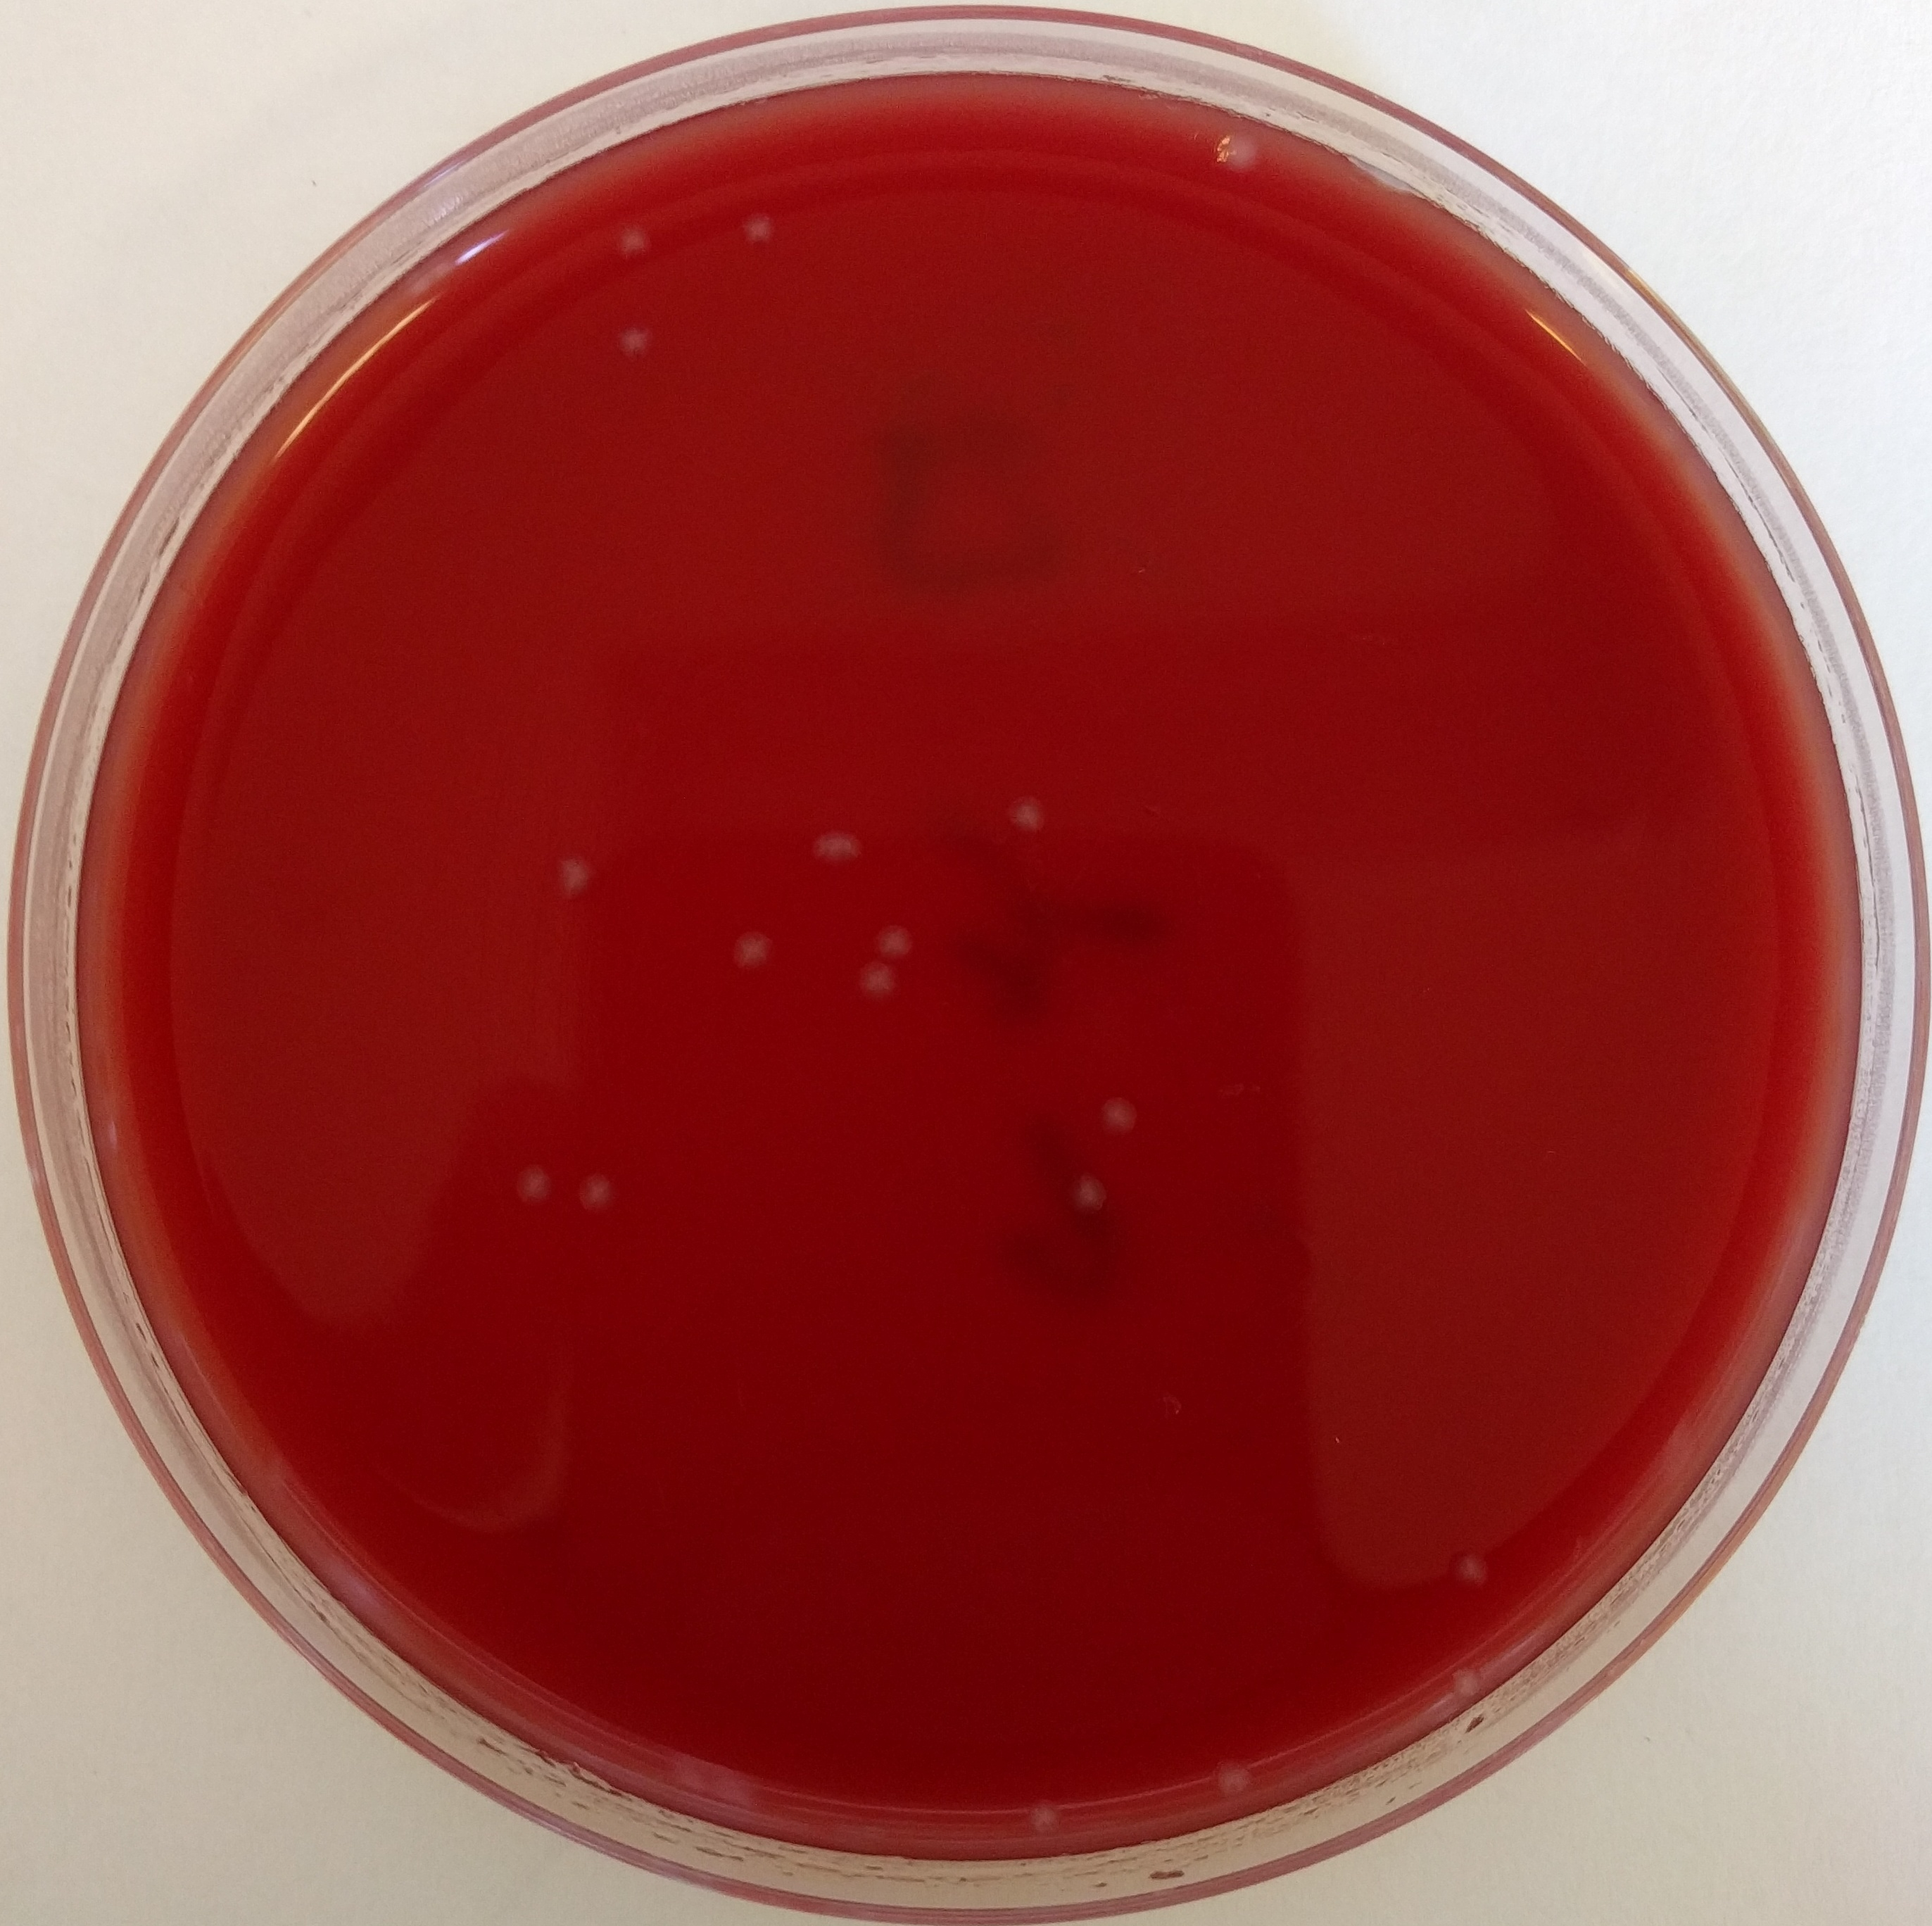sp18: (684, 898, 802, 1011), (467, 1145, 583, 1229), (536, 838, 606, 931), (809, 806, 899, 871), (832, 954, 918, 1019), (596, 198, 668, 273), (968, 778, 1056, 840), (730, 180, 797, 259), (1431, 1547, 1525, 1594), (564, 1159, 626, 1229), (1209, 123, 1269, 196), (1096, 1074, 1158, 1141), (1065, 1173, 1132, 1233), (851, 921, 922, 970), (596, 323, 658, 376)
